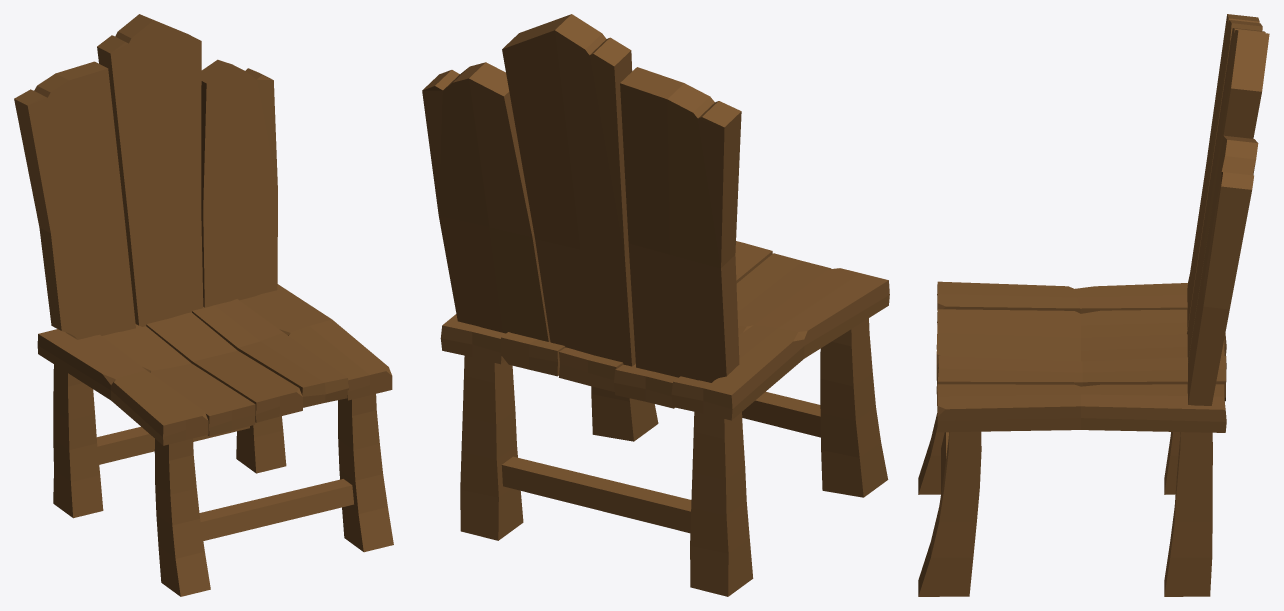
The model's file is sillas 1.fbx.
3 renders of one model, left to right at view 1: azimuth 30°, elevation 25°; view 2: azimuth 150°, elevation 25°; view 3: azimuth 270°, elevation 25°, orthographic. The views are drawn at different scales.
Parts seen in each view (by area): view 1: Cube.001; view 2: Cube.001; view 3: Cube.001.
Boxes of the visible parts, box(x1,y1,x2,y2) form: Cube.001: box(14, 14, 393, 596); Cube.001: box(422, 14, 889, 596); Cube.001: box(918, 14, 1269, 596).
Size of the model in its own units: 224 by 393 by 245.
